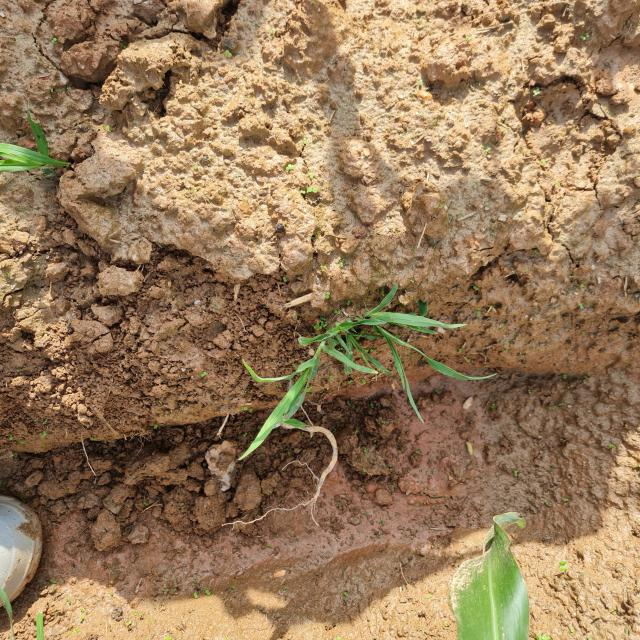weed: (219, 257, 497, 515), (0, 96, 83, 192)
